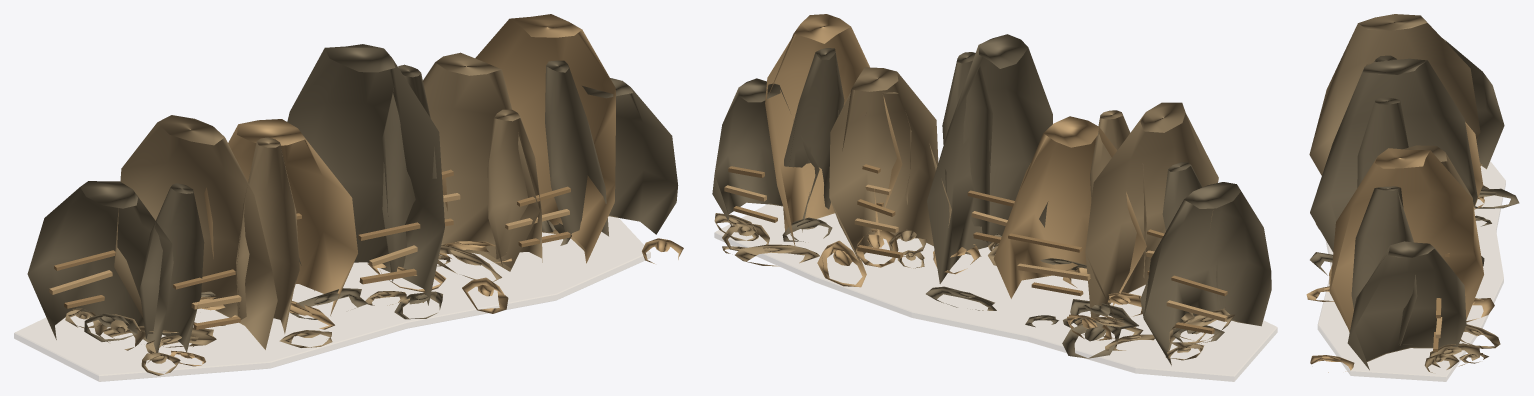
Rendered from outer-ridge-wall-set.glb.
The picture shows the model from 3 angles, left to right: view 1: azimuth 30°, elevation 25°; view 2: azimuth 150°, elevation 25°; view 3: azimuth 270°, elevation 25°; orthographic projection. The views are drawn at different scales.
Parts seen in each view (by area): view 1: outer_ridge_settled_shadow, outer_ridge_mass_5204, outer_ridge_mass_5202, outer_ridge_mass_5201, outer_ridge_mass_5206, outer_ridge_mass_5205, outer_ridge_mass_5203, outer_ridge_mass_5207, outer_ridge_broken_spire_0, outer_ridge_broken_spire_1, outer_ridge_broken_spire_4, outer_ridge_broken_spire_3 (+6 smaller); view 2: outer_ridge_settled_shadow, outer_ridge_mass_5205, outer_ridge_mass_5204, outer_ridge_mass_5201, outer_ridge_mass_5202, outer_ridge_mass_5203, outer_ridge_mass_5206, outer_ridge_mass_5207, outer_ridge_broken_spire_4, outer_ridge_broken_spire_2, outer_ridge_broken_spire_1, outer_ridge_broken_spire_0 (+10 smaller); view 3: outer_ridge_mass_5206, outer_ridge_mass_5204, outer_ridge_mass_5207, outer_ridge_mass_5202, outer_ridge_settled_shadow, outer_ridge_broken_spire_4, outer_ridge_broken_spire_2, outer_ridge_mass_5201, outer_ridge_mass_5203, outer_ridge_mass_5205, outer_ridge_scree_2, outer_ridge_scree_24 (+6 smaller).
Boxes of the visible parts, box(x1,y1,x2,y2) form: outer_ridge_settled_shadow: box(14, 215, 650, 381); outer_ridge_mass_5204: box(287, 44, 444, 305); outer_ridge_mass_5202: box(114, 115, 277, 349); outer_ridge_mass_5201: box(27, 181, 173, 352); outer_ridge_mass_5206: box(441, 14, 615, 263); outer_ridge_mass_5205: box(423, 52, 539, 271); outer_ridge_mass_5203: box(204, 119, 357, 315); outer_ridge_mass_5207: box(582, 78, 678, 234); outer_ridge_broken_spire_0: box(139, 183, 204, 352); outer_ridge_broken_spire_1: box(236, 137, 299, 333); outer_ridge_broken_spire_4: box(545, 60, 608, 238); outer_ridge_broken_spire_3: box(487, 109, 542, 266); outer_ridge_settled_shadow: box(714, 203, 1277, 381); outer_ridge_mass_5205: box(829, 67, 951, 265); outer_ridge_mass_5204: box(927, 34, 1052, 283); outer_ridge_mass_5201: box(1140, 182, 1271, 365); outer_ridge_mass_5202: box(1085, 102, 1218, 327); outer_ridge_mass_5203: box(993, 116, 1146, 305); outer_ridge_mass_5206: box(765, 14, 902, 248); outer_ridge_mass_5207: box(712, 78, 819, 232); outer_ridge_broken_spire_4: box(784, 48, 844, 209); outer_ridge_broken_spire_2: box(942, 52, 992, 245); outer_ridge_broken_spire_1: box(1090, 110, 1146, 277); outer_ridge_broken_spire_0: box(1162, 162, 1219, 304); outer_ridge_mass_5206: box(1329, 148, 1483, 332); outer_ridge_mass_5204: box(1310, 58, 1477, 251); outer_ridge_mass_5207: box(1347, 241, 1466, 370); outer_ridge_mass_5202: box(1309, 14, 1480, 175); outer_ridge_settled_shadow: box(1318, 161, 1505, 381); outer_ridge_broken_spire_4: box(1351, 186, 1417, 345); outer_ridge_broken_spire_2: box(1357, 97, 1408, 187); outer_ridge_mass_5201: box(1442, 38, 1504, 169); outer_ridge_mass_5203: box(1465, 122, 1483, 208); outer_ridge_mass_5205: box(1403, 145, 1472, 198); outer_ridge_scree_2: box(1429, 343, 1479, 367); outer_ridge_scree_24: box(1474, 187, 1519, 208).
Bounding box in the file's own units: 9.36 × 3.67 × 3.46.
